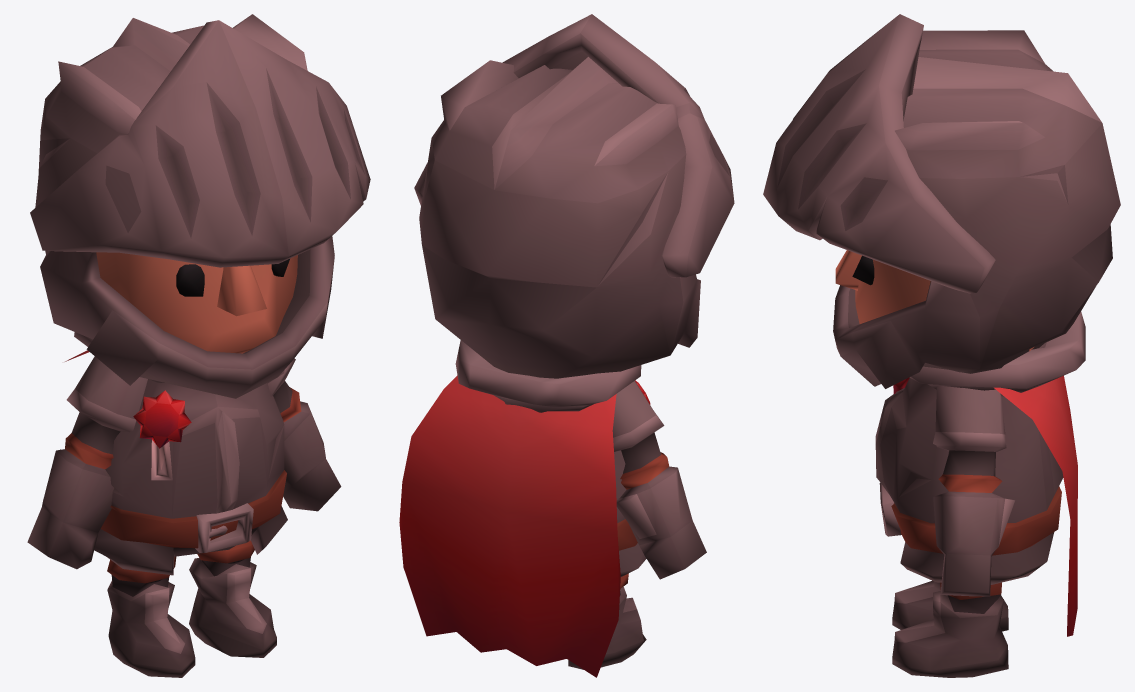
The model's file is enemy-chevalierinf.glb.
The picture shows the model from 3 angles, left to right: view 1: azimuth 30°, elevation 25°; view 2: azimuth 150°, elevation 25°; view 3: azimuth 270°, elevation 25°; orthographic projection. The views are drawn at different scales.
Parts seen in each view (by area): view 1: enemy:chevalierinf; view 2: enemy:chevalierinf; view 3: enemy:chevalierinf.
Boxes of the visible parts, <box> form: enemy:chevalierinf: <box>27,14,370,677</box>; enemy:chevalierinf: <box>399,14,734,677</box>; enemy:chevalierinf: <box>763,14,1120,677</box>.
Bounding box in the file's own units: 0.7105 × 1.5 × 0.7714.
1 material, 1 textured.
